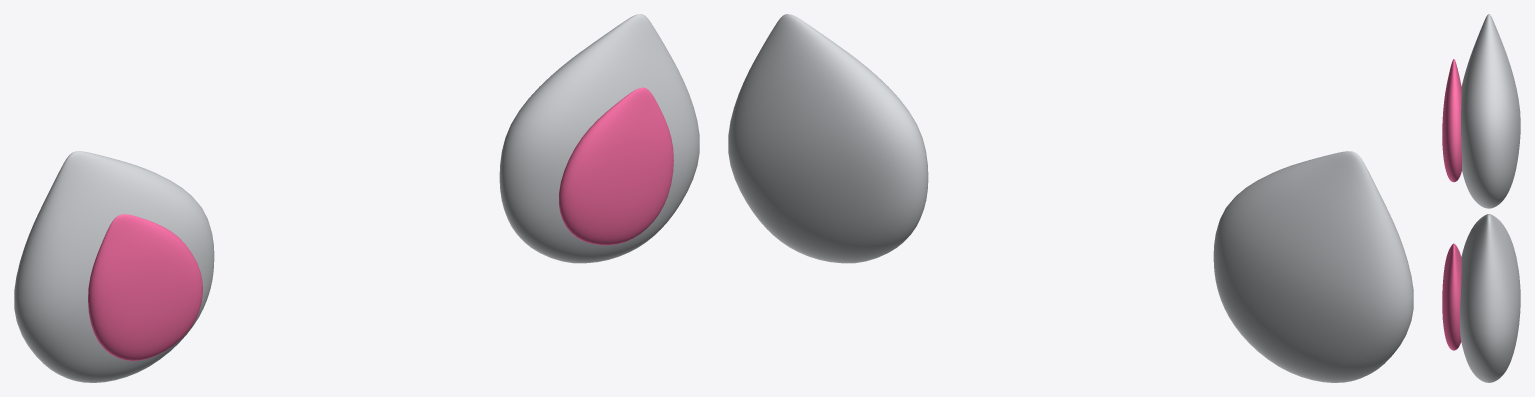
Rendered from cat_ears.glb.
3 views of the same model, side by side, from view 1: azimuth 30°, elevation 25°; view 2: azimuth 150°, elevation 25°; view 3: azimuth 270°, elevation 25° (orthographic). The views are drawn at different scales.
Visible parts, largest first — view 1: ACC_cat_ear1, ACC_cat_ear-1, ACC_cat_inner1, ACC_cat_inner-1; view 2: ACC_cat_ear1, ACC_cat_ear-1; view 3: ACC_cat_ear-1, ACC_cat_ear1, ACC_cat_inner-1, ACC_cat_inner1.
Boxes of the visible parts, <box> form: ACC_cat_ear1: <box>499,14,699,263</box>; ACC_cat_ear-1: <box>14,151,214,382</box>; ACC_cat_inner1: <box>559,87,673,245</box>; ACC_cat_inner-1: <box>88,214,202,360</box>; ACC_cat_ear1: <box>728,14,928,263</box>; ACC_cat_ear-1: <box>1213,151,1413,382</box>; ACC_cat_ear-1: <box>1461,14,1520,208</box>; ACC_cat_ear1: <box>1459,214,1520,382</box>; ACC_cat_inner-1: <box>1442,59,1461,182</box>; ACC_cat_inner1: <box>1442,243,1461,350</box>.
Bounding box in the file's own units: 0.8211 × 0.2726 × 0.1123.
